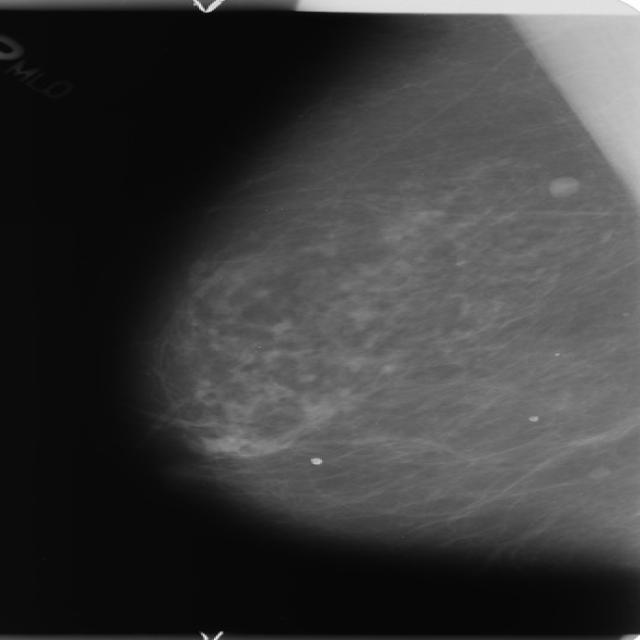tumour: (545, 175, 579, 198)
